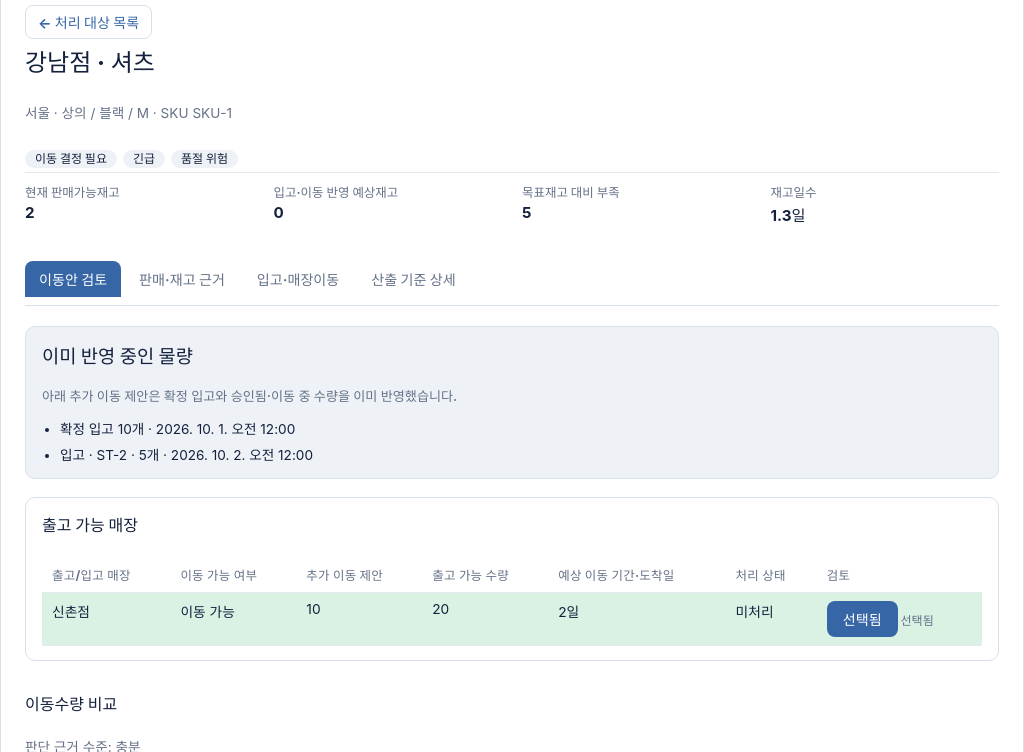
Test case: ExceptionDetail 입고·매장이동 tab › shows source for events/inbound, and translated direction plus donor/receiver identity for open transfers
Click the tab "입고·매장이동". click: x=298, y=278
box: [243,260,353,296]
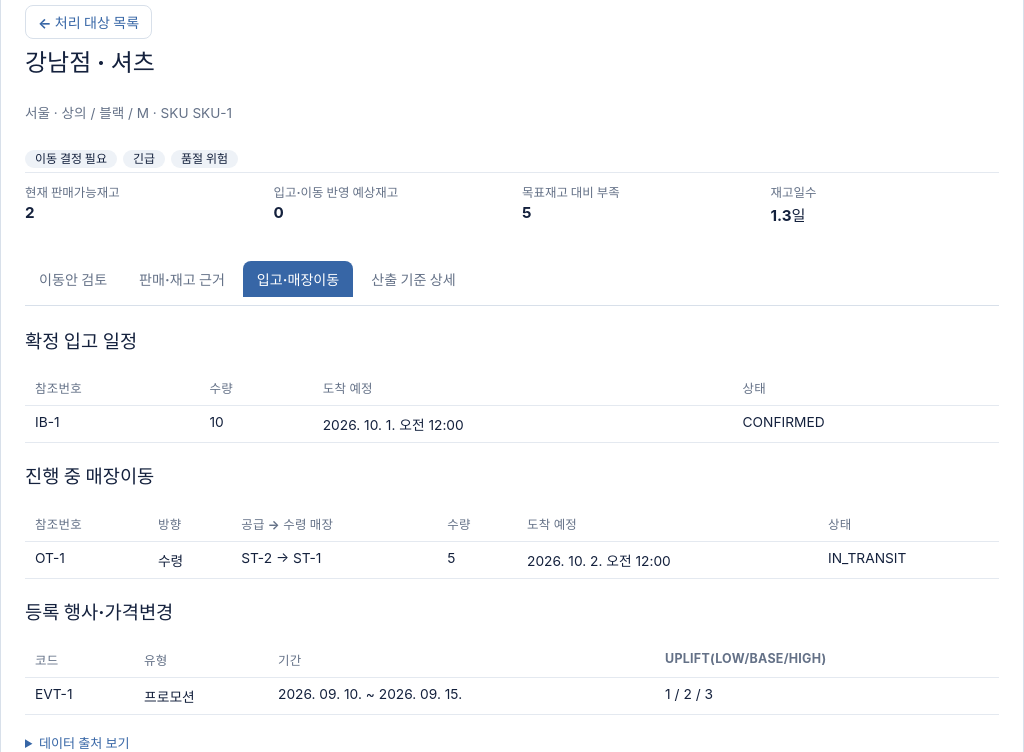
Check: the heading "확정 입고 일정" is shown, box [25,330,137,352]
Check: the heading "진행 중 매장이동" is shown, box [25,465,154,488]
Check: the heading "등록 행사·가격변경" is shown, box [25,601,173,624]
Click the heading "데이터 출처 보기". click: x=84, y=743
box: [39,735,130,751]
(page scrolled)
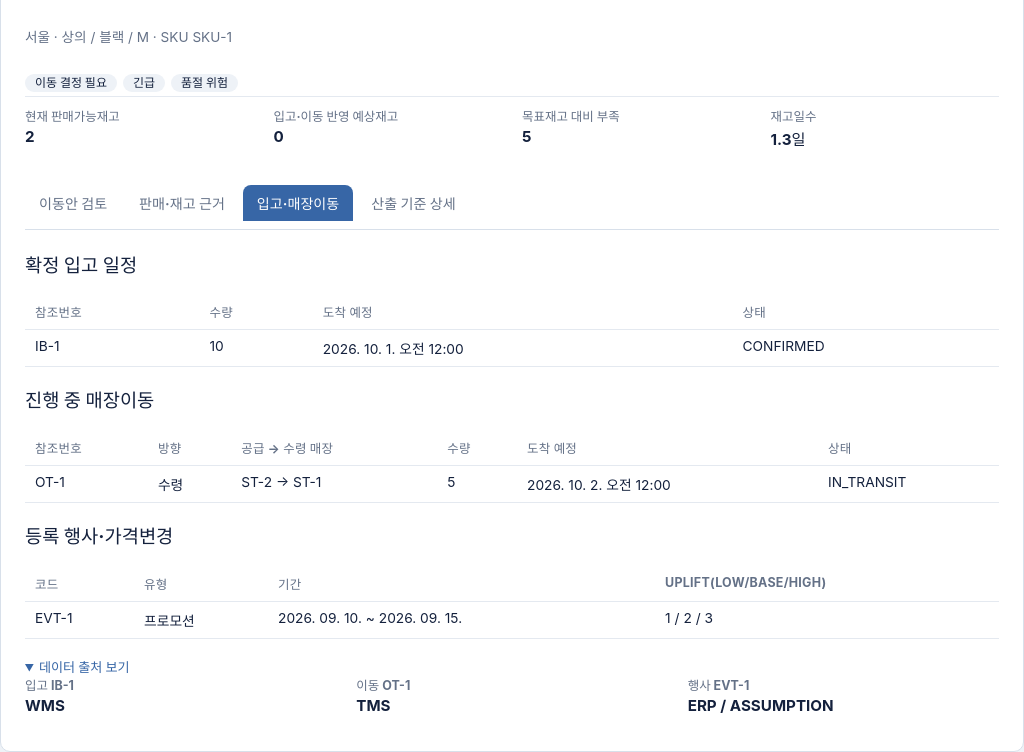
Check: the text "WMS" is shown, box [25,696,65,715]
Check: the text "TMS" is shown, box [356,696,390,715]
